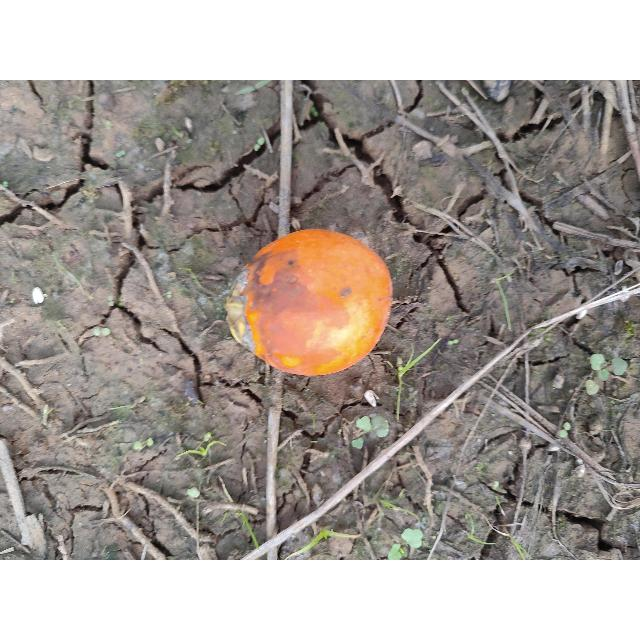good: (224, 229, 394, 379)
